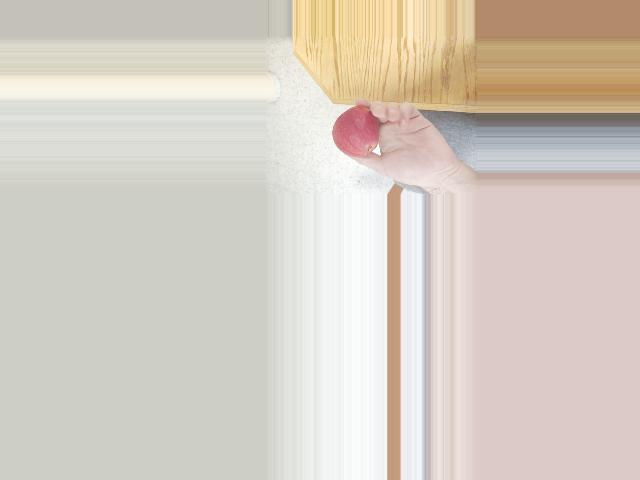apple: (329, 108, 379, 156)
